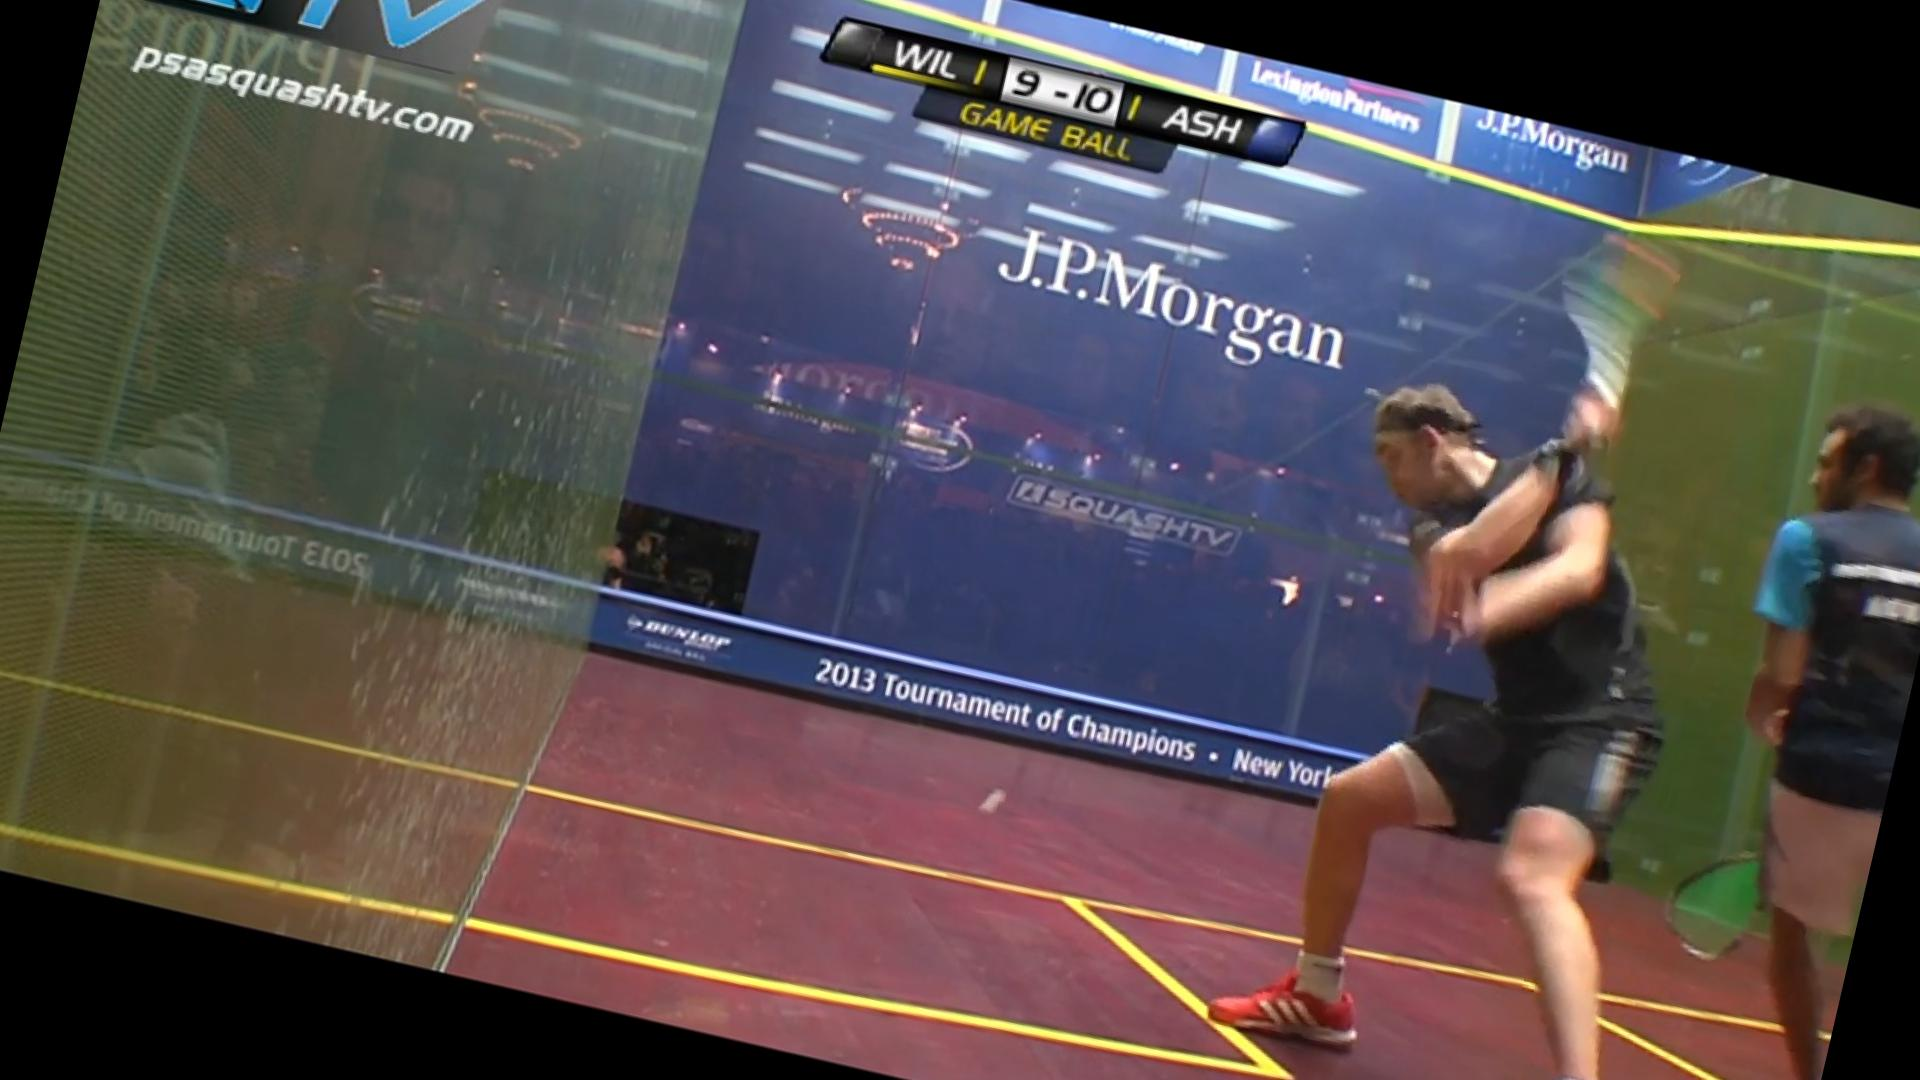Squash-Ball: (964, 773, 1014, 843)
